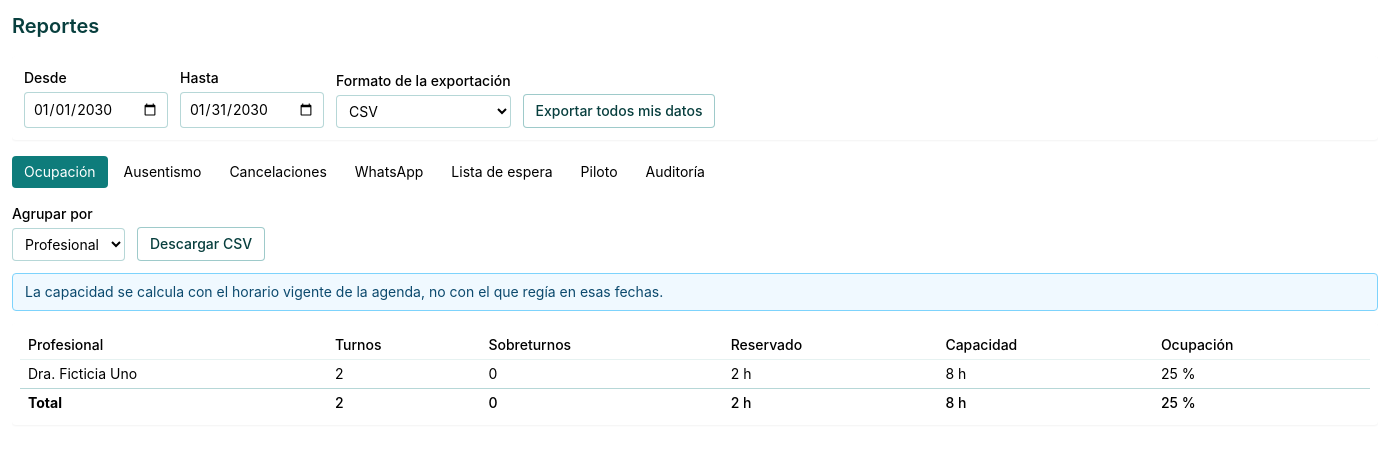
Test: ReportsPage › auditoría: «Cargar más» agrega la página siguiente sin repetir filas
The width and height of the screenshot is (1378, 467).
Click the tab "Auditoría".
click(675, 172)  # box [634, 156, 717, 188]
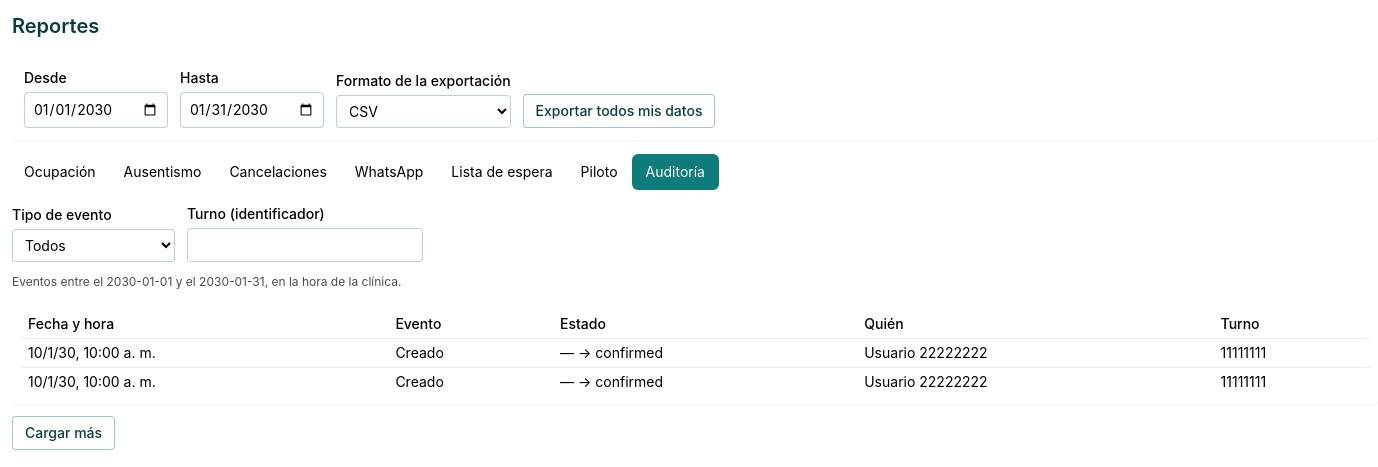
Expected: the number of rows is 3, [20, 310, 1370, 338]; [20, 338, 1370, 368]; [20, 368, 1370, 396]
Click the button "Cargar más".
click(64, 433)  # box [12, 416, 115, 450]
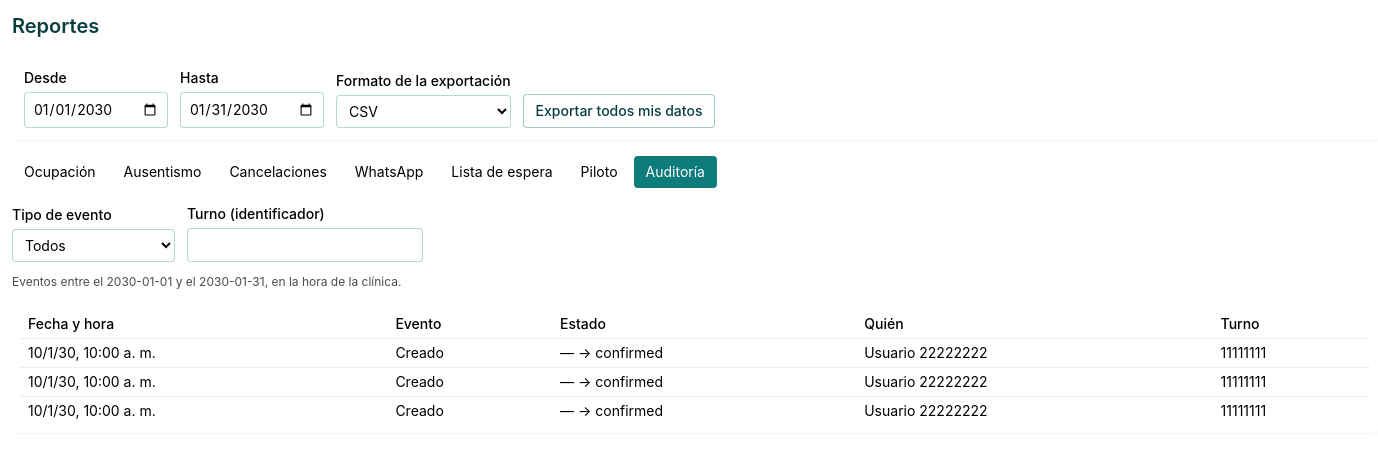
Expected: the number of rows is 4, [20, 310, 1370, 338]; [20, 338, 1370, 368]; [20, 368, 1370, 396]; [20, 396, 1370, 425]
Expected: the button "Cargar más" is gone
